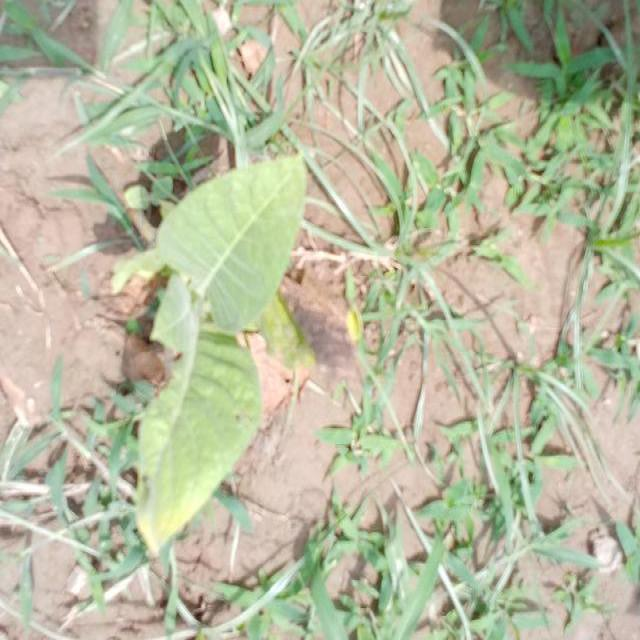crop: (145, 168, 311, 532)
